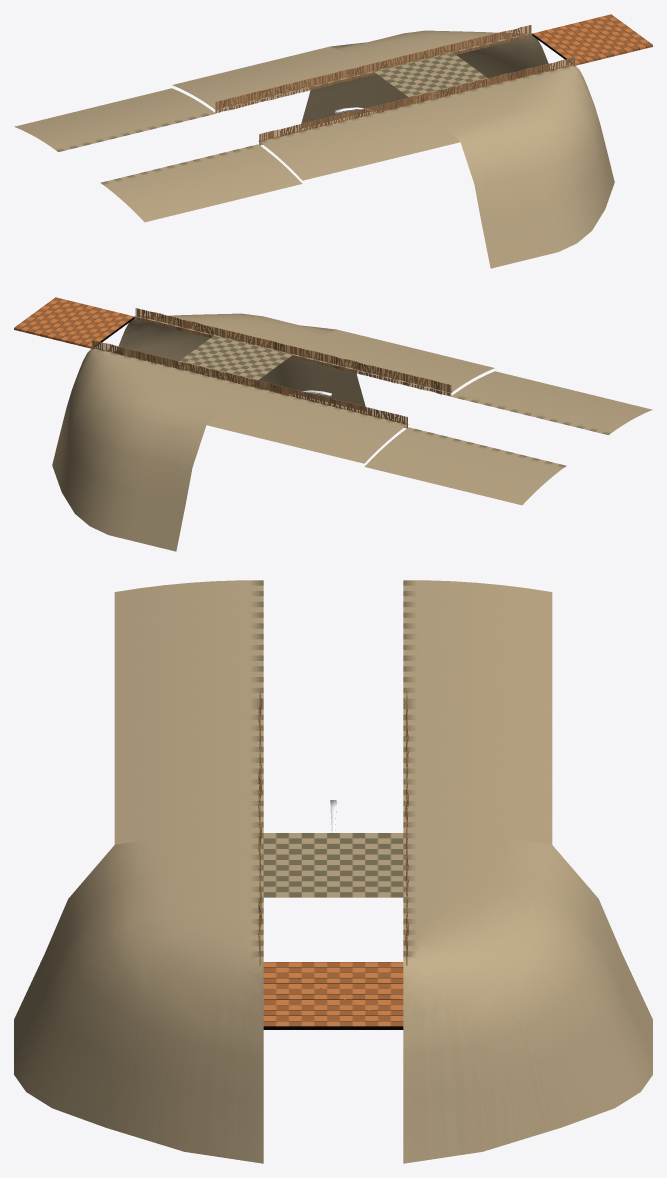
File: bridgeworld.glb
3 views of the same model, one above another, from view 1: azimuth 30°, elevation 25°; view 2: azimuth 150°, elevation 25°; view 3: azimuth 270°, elevation 25° (orthographic). The views are drawn at different scales.
Visible parts, largest first — view 1: field_beach_hill, field_beach_grass, field_beach, tile_bridge, tile_beach; view 2: field_beach_hill, field_beach_grass, field_beach, tile_bridge, tile_beach; view 3: field_beach_hill, field_beach_grass, field_beach, tile_bridge, tile_beach.
Boxes of the visible parts, left/top/right/bottom form: field_beach_hill: left=301, top=25, right=614, bottom=268; field_beach_grass: left=172, top=46, right=459, bottom=180; field_beach: left=14, top=88, right=302, bottom=222; tile_bridge: left=532, top=14, right=652, bottom=65; tile_beach: left=374, top=53, right=493, bottom=102; field_beach_hill: left=52, top=308, right=365, bottom=551; field_beach_grass: left=207, top=329, right=494, bottom=463; field_beach: left=364, top=371, right=652, bottom=505; tile_bridge: left=14, top=297, right=134, bottom=348; tile_beach: left=174, top=336, right=292, bottom=384; field_beach_hill: left=14, top=820, right=652, bottom=1163; field_beach_grass: left=114, top=691, right=552, bottom=844; field_beach: left=114, top=580, right=552, bottom=715; tile_bridge: left=263, top=962, right=403, bottom=1029; tile_beach: left=263, top=833, right=403, bottom=897.
Size of the model in its own units: 168 by 34.65 by 101.
Materials: 7 (6 with a texture image).
